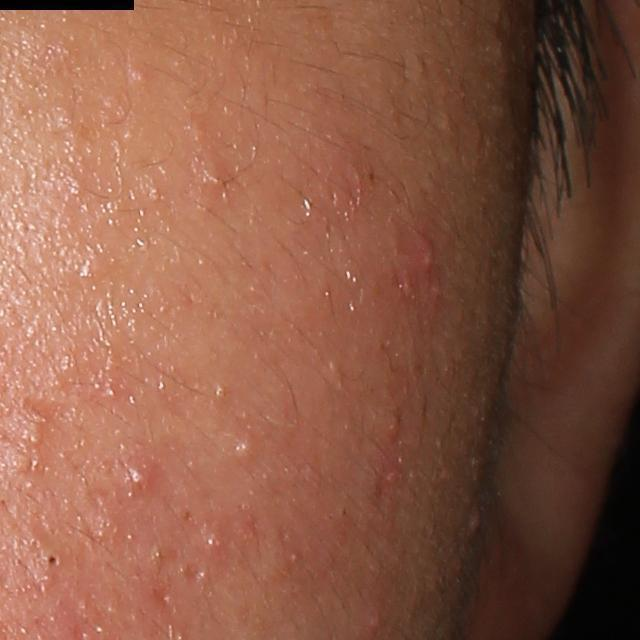comedo: (20, 404, 48, 451), (233, 438, 258, 471), (462, 506, 486, 539), (197, 530, 222, 558), (132, 65, 159, 86), (42, 550, 61, 570), (213, 382, 228, 401)
papule: (122, 464, 159, 501), (417, 235, 439, 277), (381, 411, 401, 447), (364, 609, 383, 632)
